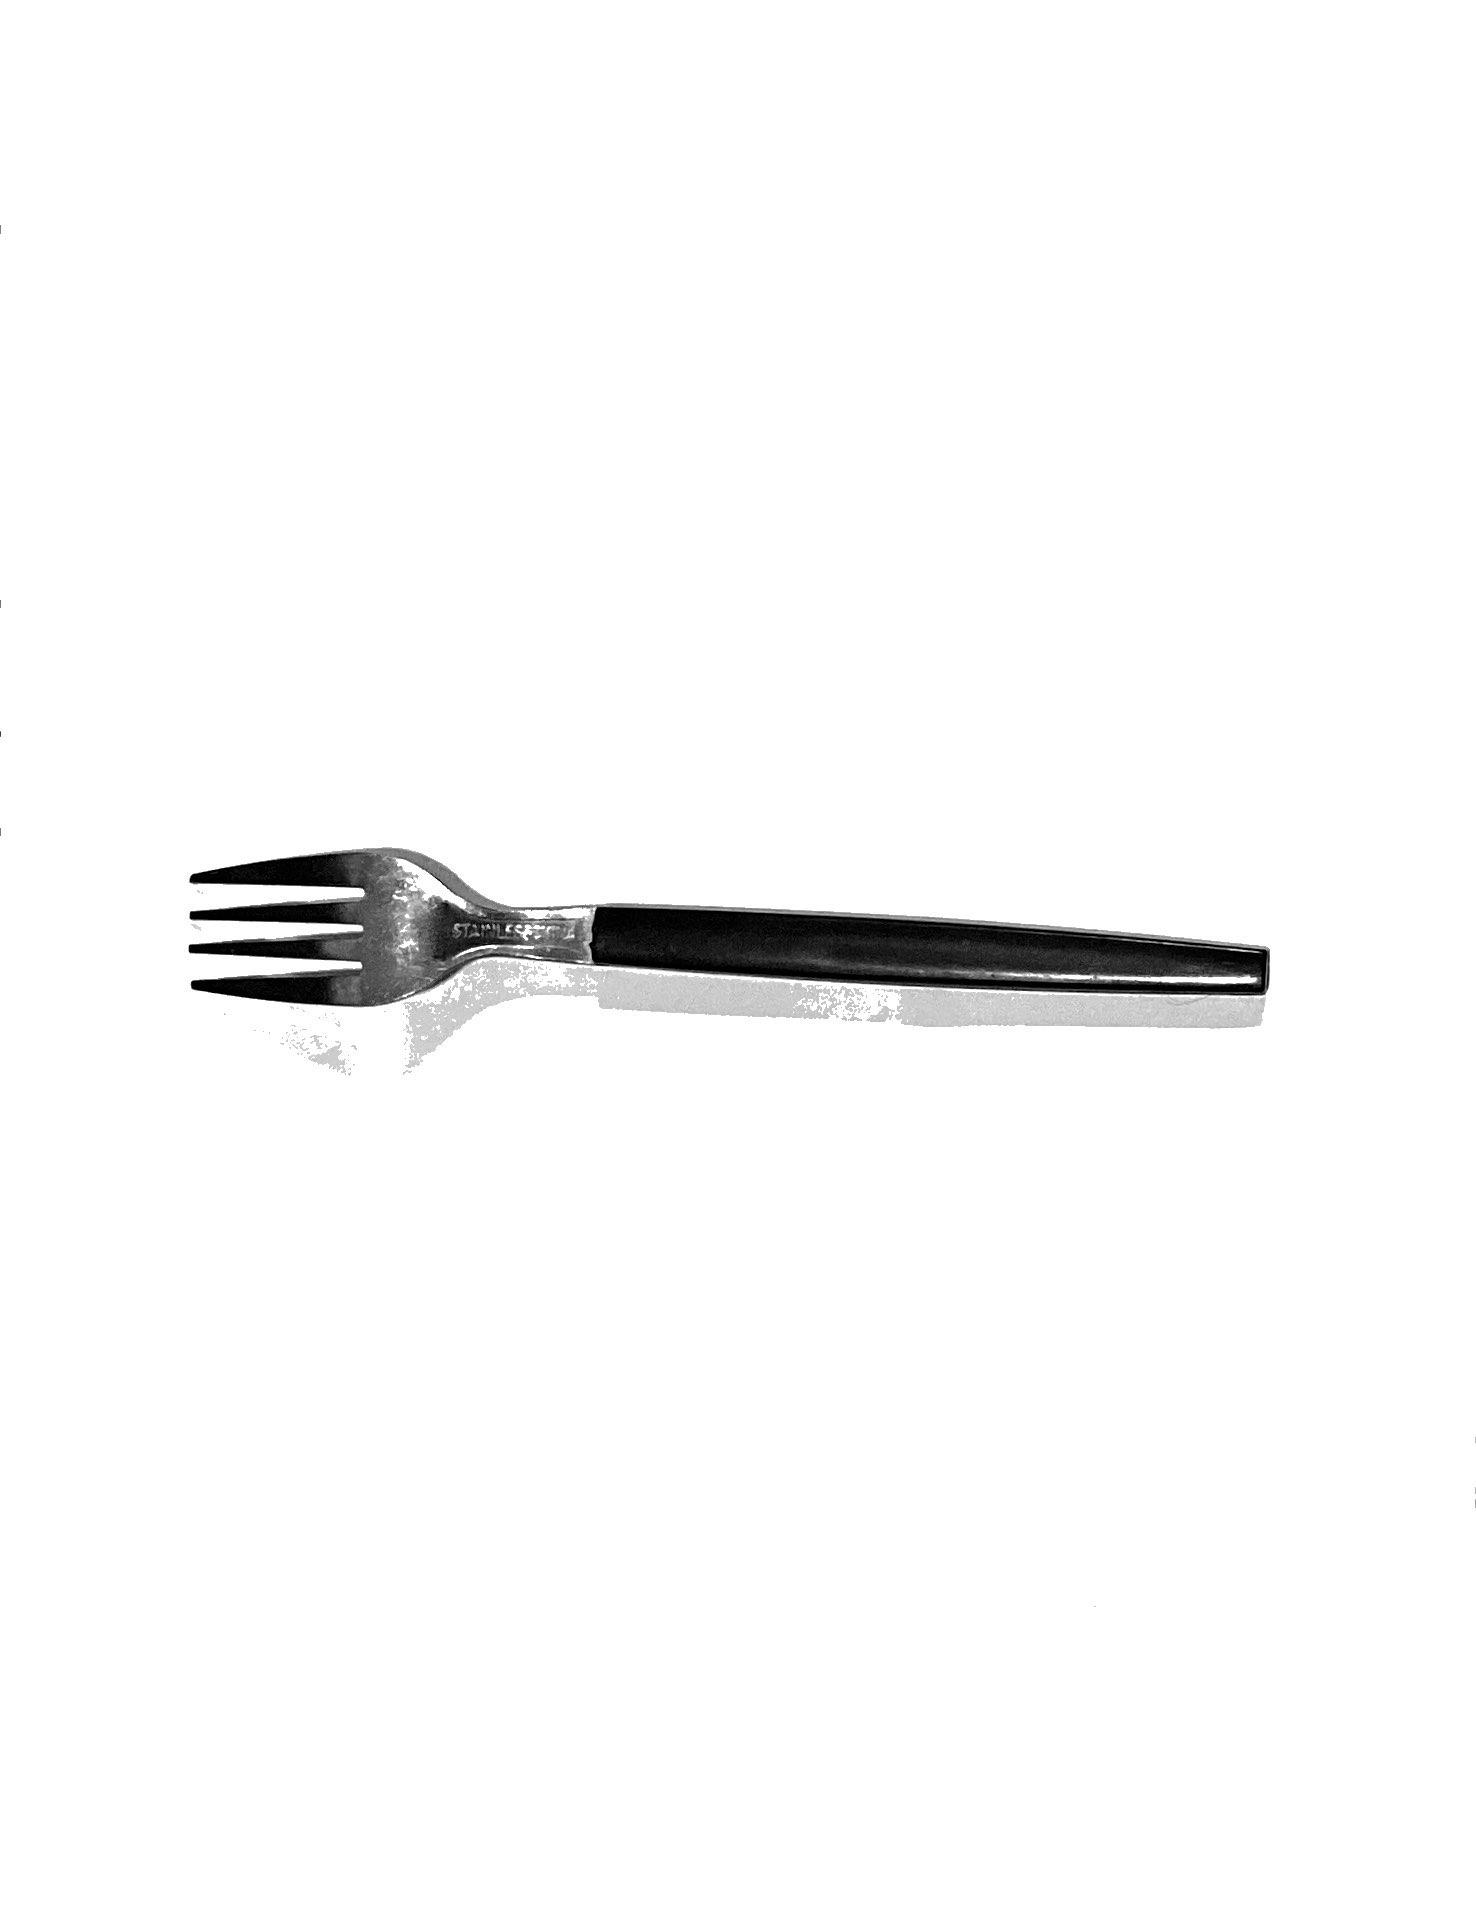Fork: (143, 769, 1392, 1158)
